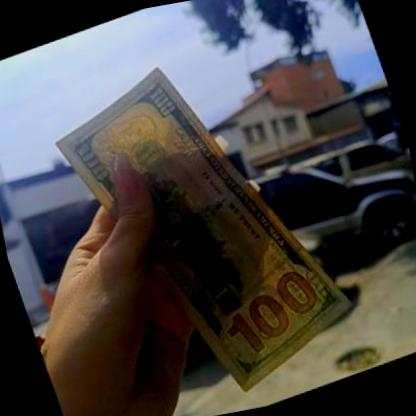one_hundred-back: (32, 15, 377, 416)
